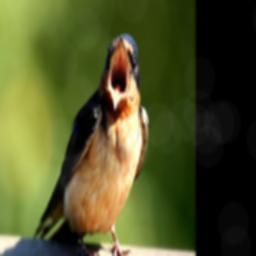Swallow: (32, 31, 150, 256)
